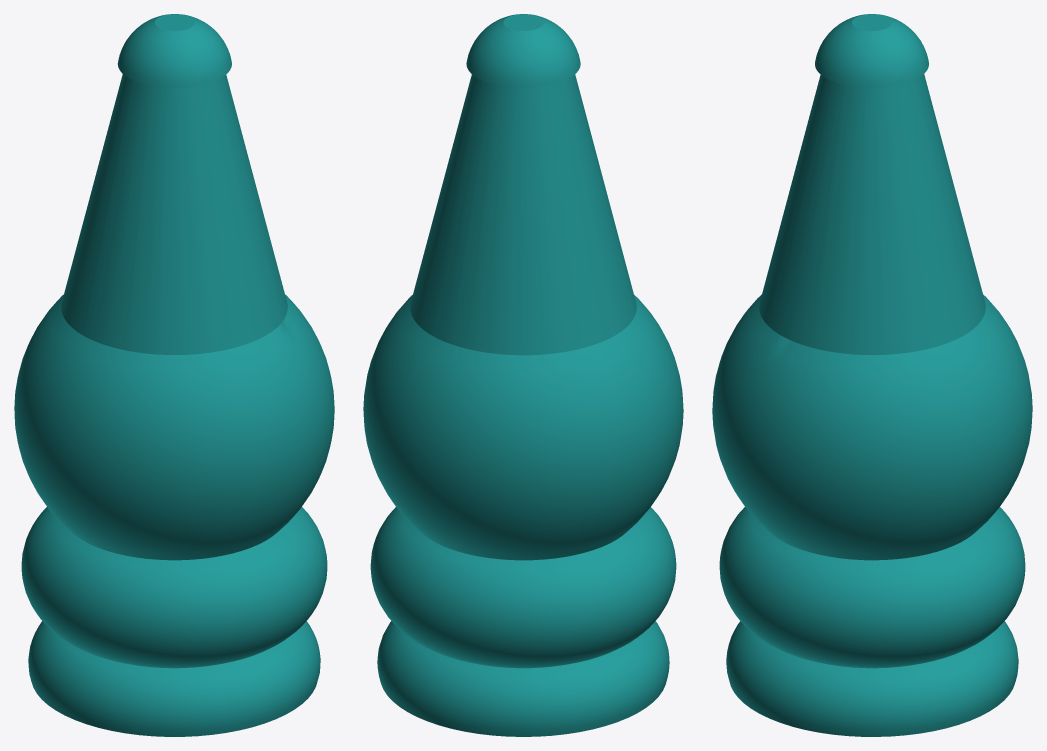
The model's file is original-27.obj.
3 views of the same model, side by side, from view 1: azimuth 30°, elevation 25°; view 2: azimuth 150°, elevation 25°; view 3: azimuth 270°, elevation 25° (orthographic).
Parts seen in each view (by area): view 1: mesh50/mesh50-geometry#mesh50-geometry; view 2: mesh50/mesh50-geometry#mesh50-geometry; view 3: mesh50/mesh50-geometry#mesh50-geometry.
Boxes of the visible parts, x1,y1,x2,y2 form: mesh50/mesh50-geometry#mesh50-geometry: (14, 14, 334, 736); mesh50/mesh50-geometry#mesh50-geometry: (363, 14, 683, 736); mesh50/mesh50-geometry#mesh50-geometry: (712, 14, 1032, 736).
Size of the model in its own units: 0.00686 by 0.0155 by 0.00686.
